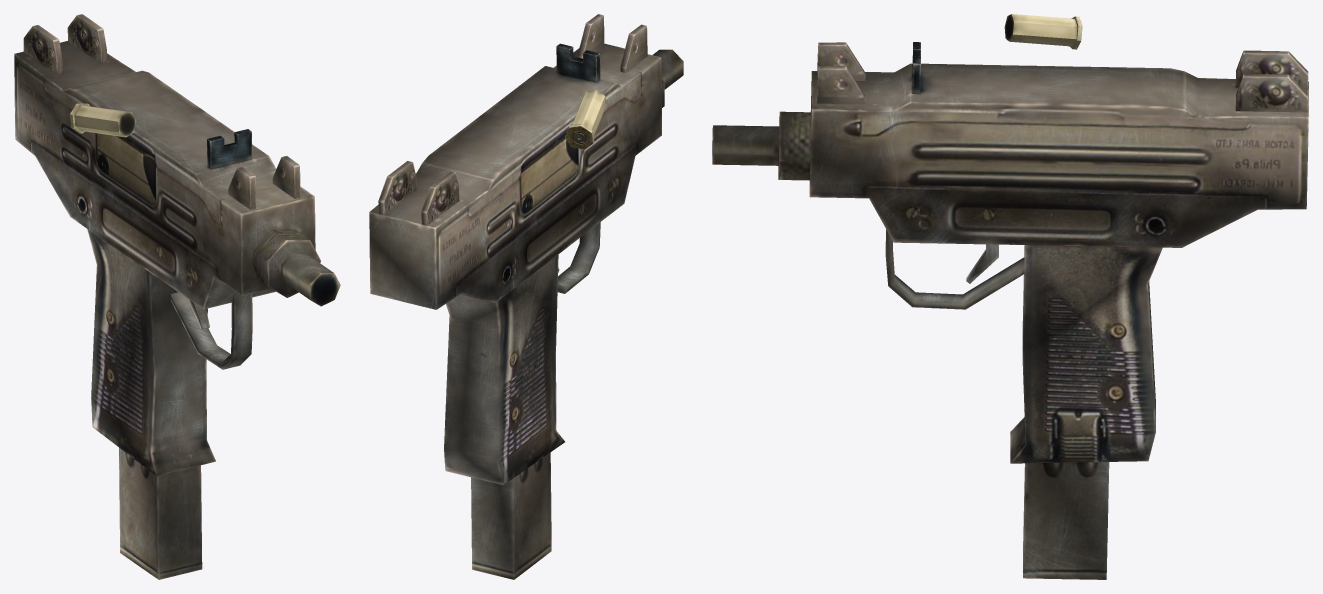
Rendered from uzi.glb.
3 renders of one model, left to right at view 1: azimuth 30°, elevation 25°; view 2: azimuth 150°, elevation 25°; view 3: azimuth 270°, elevation 25°, orthographic. The views are drawn at different scales.
Visible parts, largest first — view 1: SubMachineGun, SubMachineGun_Shell; view 2: SubMachineGun, SubMachineGun_Shell; view 3: SubMachineGun, SubMachineGun_Shell.
Boxes of the visible parts, <box> form: SubMachineGun: <box>14,14,340,579</box>; SubMachineGun_Shell: <box>69,103,136,137</box>; SubMachineGun: <box>369,14,683,579</box>; SubMachineGun_Shell: <box>565,90,606,149</box>; SubMachineGun: <box>712,42,1308,579</box>; SubMachineGun_Shell: <box>1004,14,1082,49</box>.
Size of the model in its own units: 0.1 by 0.3722 by 0.3857.
Materials: 2 (2 with a texture image).
